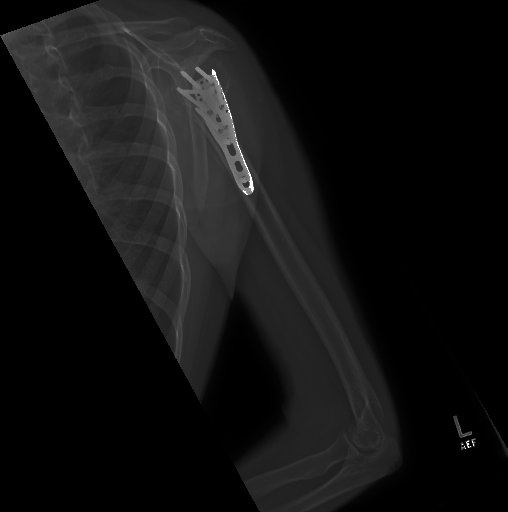implant: (172, 61, 257, 200)
